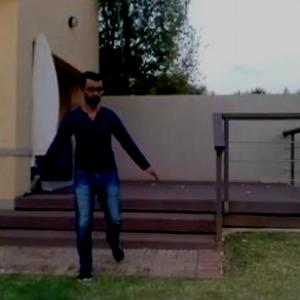land: (20, 59, 159, 282)
